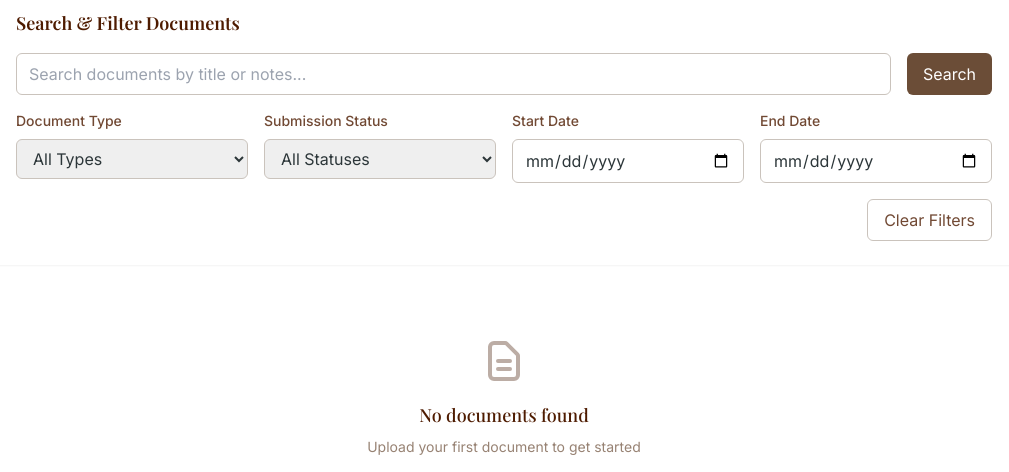
Test: DocumentsList – deep tests › empty state › shows filter-adjustment hint when empty with active filters
Expected: the heading "No documents found" is shown, [419,403,589,427]
Note: Apply a filter
Select "Other" in the dropdown labelled "Document Type": (132, 159) [16,139,248,179]
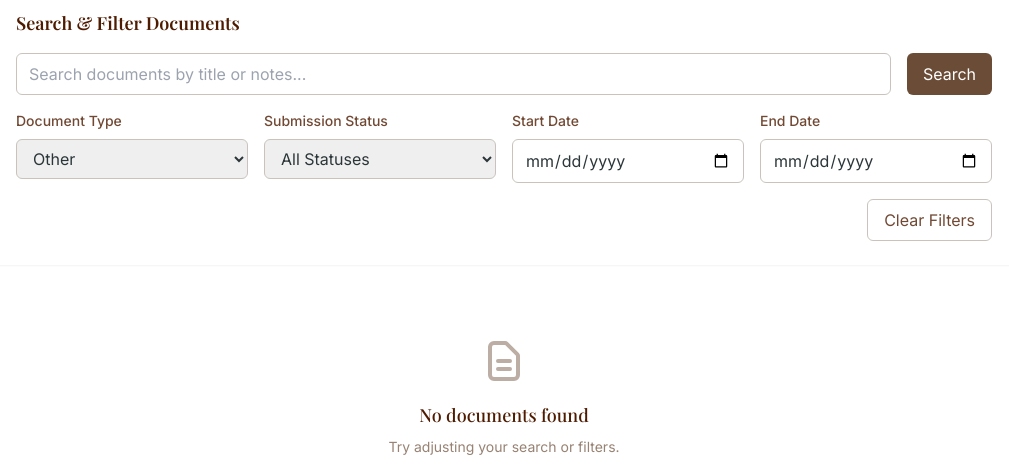
Result: the text "Try adjusting your search or filters." is shown at [388,438,620,455]
